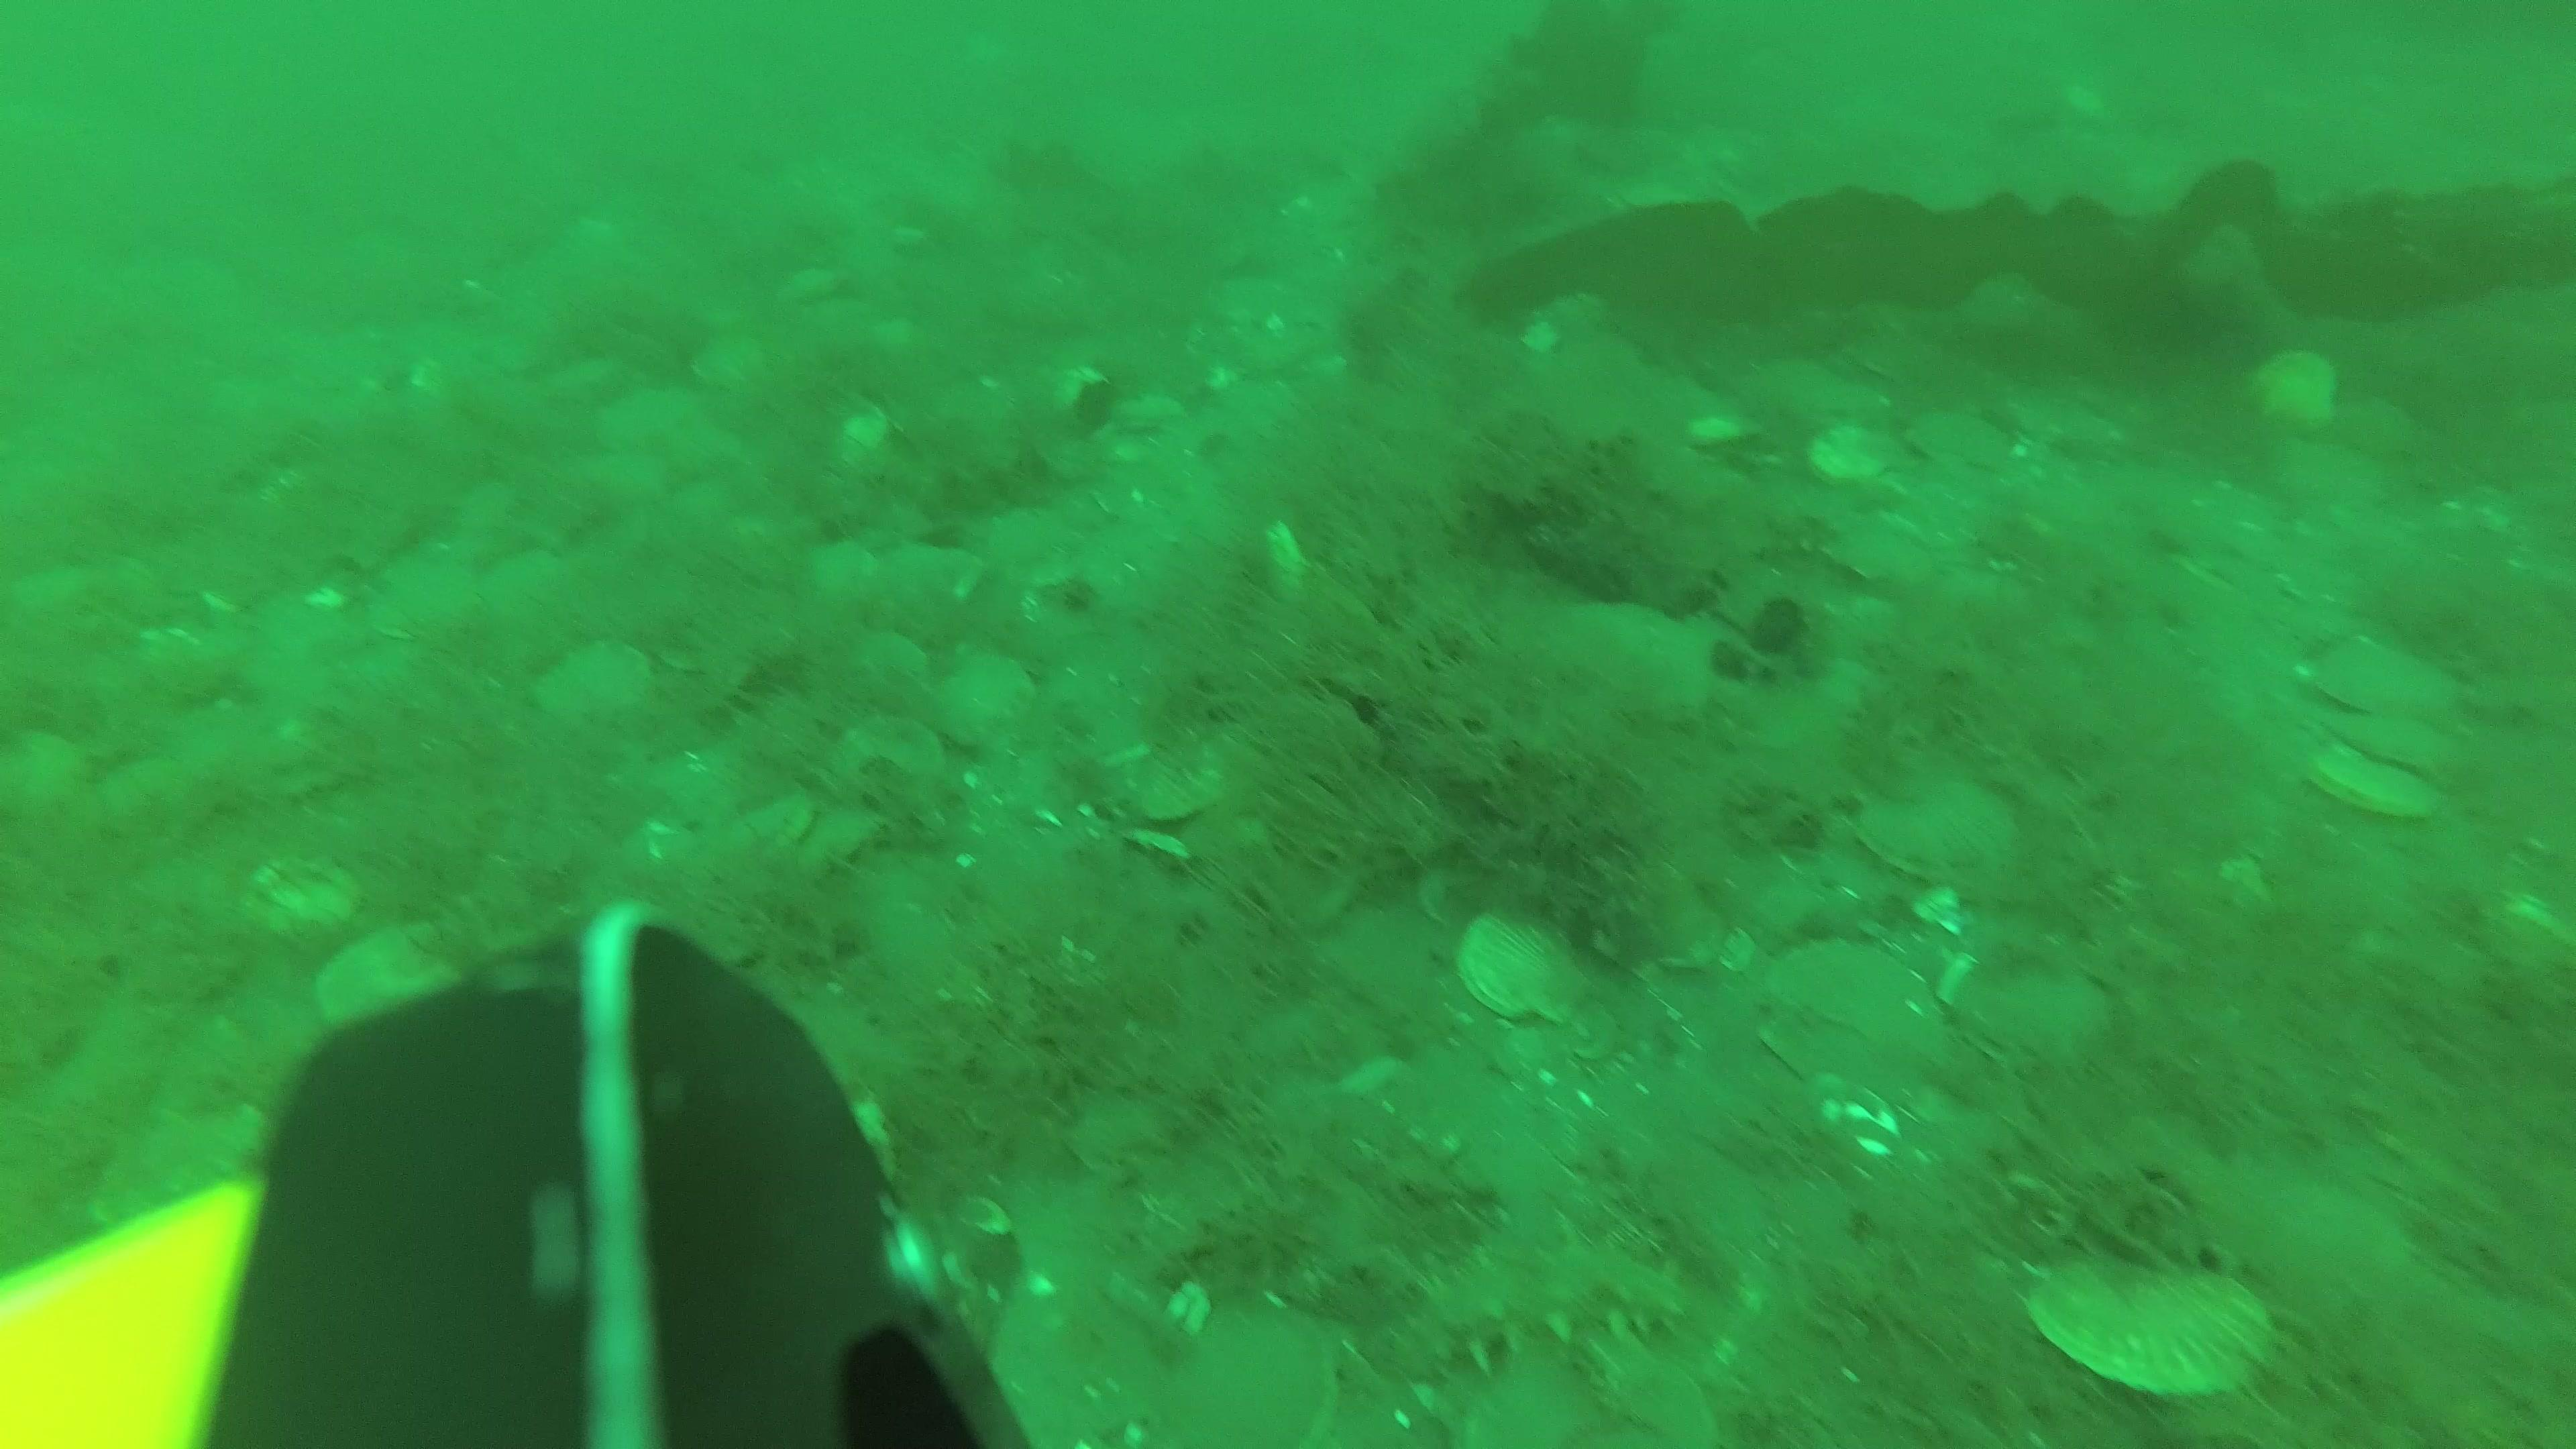holothurian: (1371, 1233, 1674, 1369)
scallop: (2190, 1148, 2406, 1343), (2029, 1242, 2277, 1407), (1766, 925, 1946, 1115), (996, 1281, 1166, 1447), (1159, 1299, 1327, 1449), (1571, 833, 1729, 975), (1959, 948, 2109, 1074), (1859, 773, 2024, 885), (1456, 904, 1589, 1033), (237, 851, 368, 950), (315, 936, 442, 1037), (936, 655, 1051, 761), (1141, 717, 1254, 821), (531, 625, 649, 724), (2305, 632, 2440, 717), (372, 561, 485, 653), (991, 504, 1102, 596), (2312, 747, 2427, 832), (835, 718, 938, 805), (2339, 702, 2454, 777), (1806, 426, 1907, 502), (1907, 405, 2003, 481), (2247, 347, 2339, 425), (2010, 389, 2112, 456)
